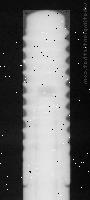Straumann ITI: (23, 10, 70, 200)
